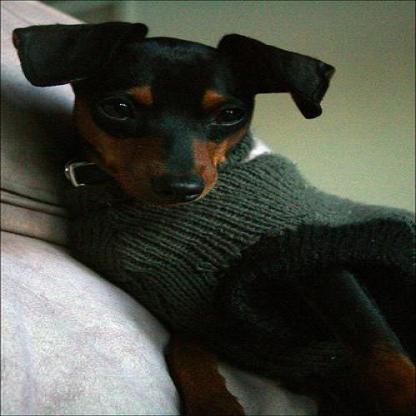miniature_pinscher: (11, 19, 412, 414)
